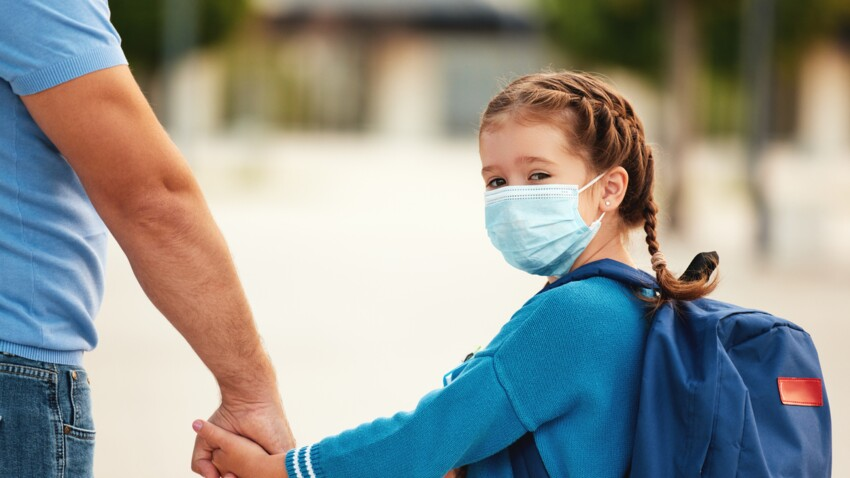with_mask: (472, 125, 619, 282)
